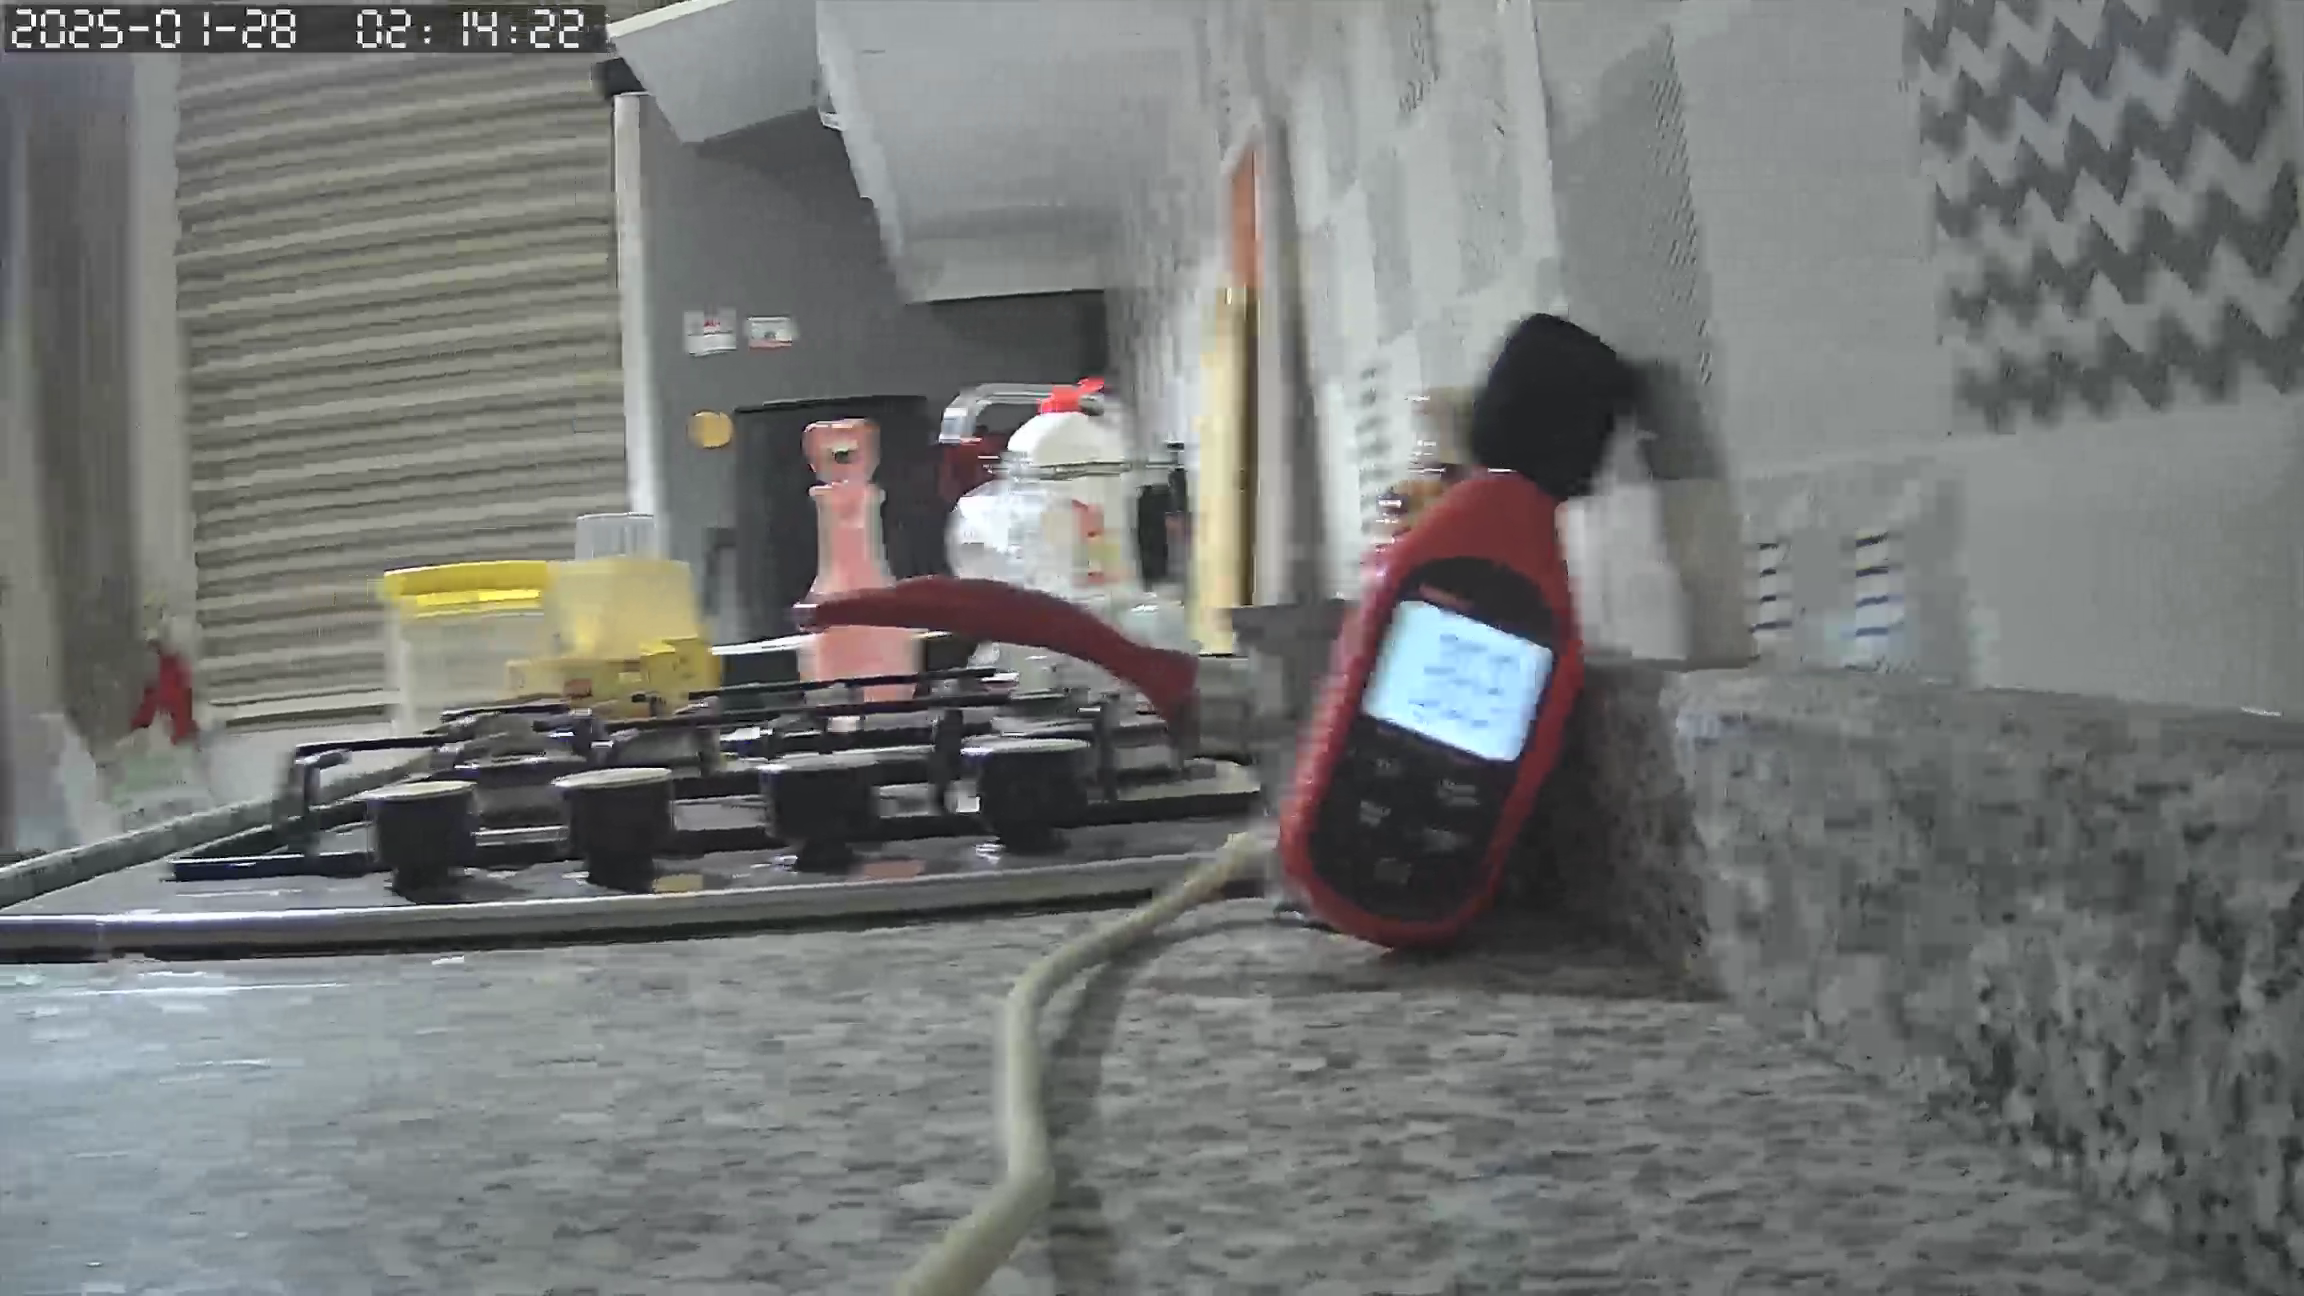screen: (1359, 597, 1554, 763)
